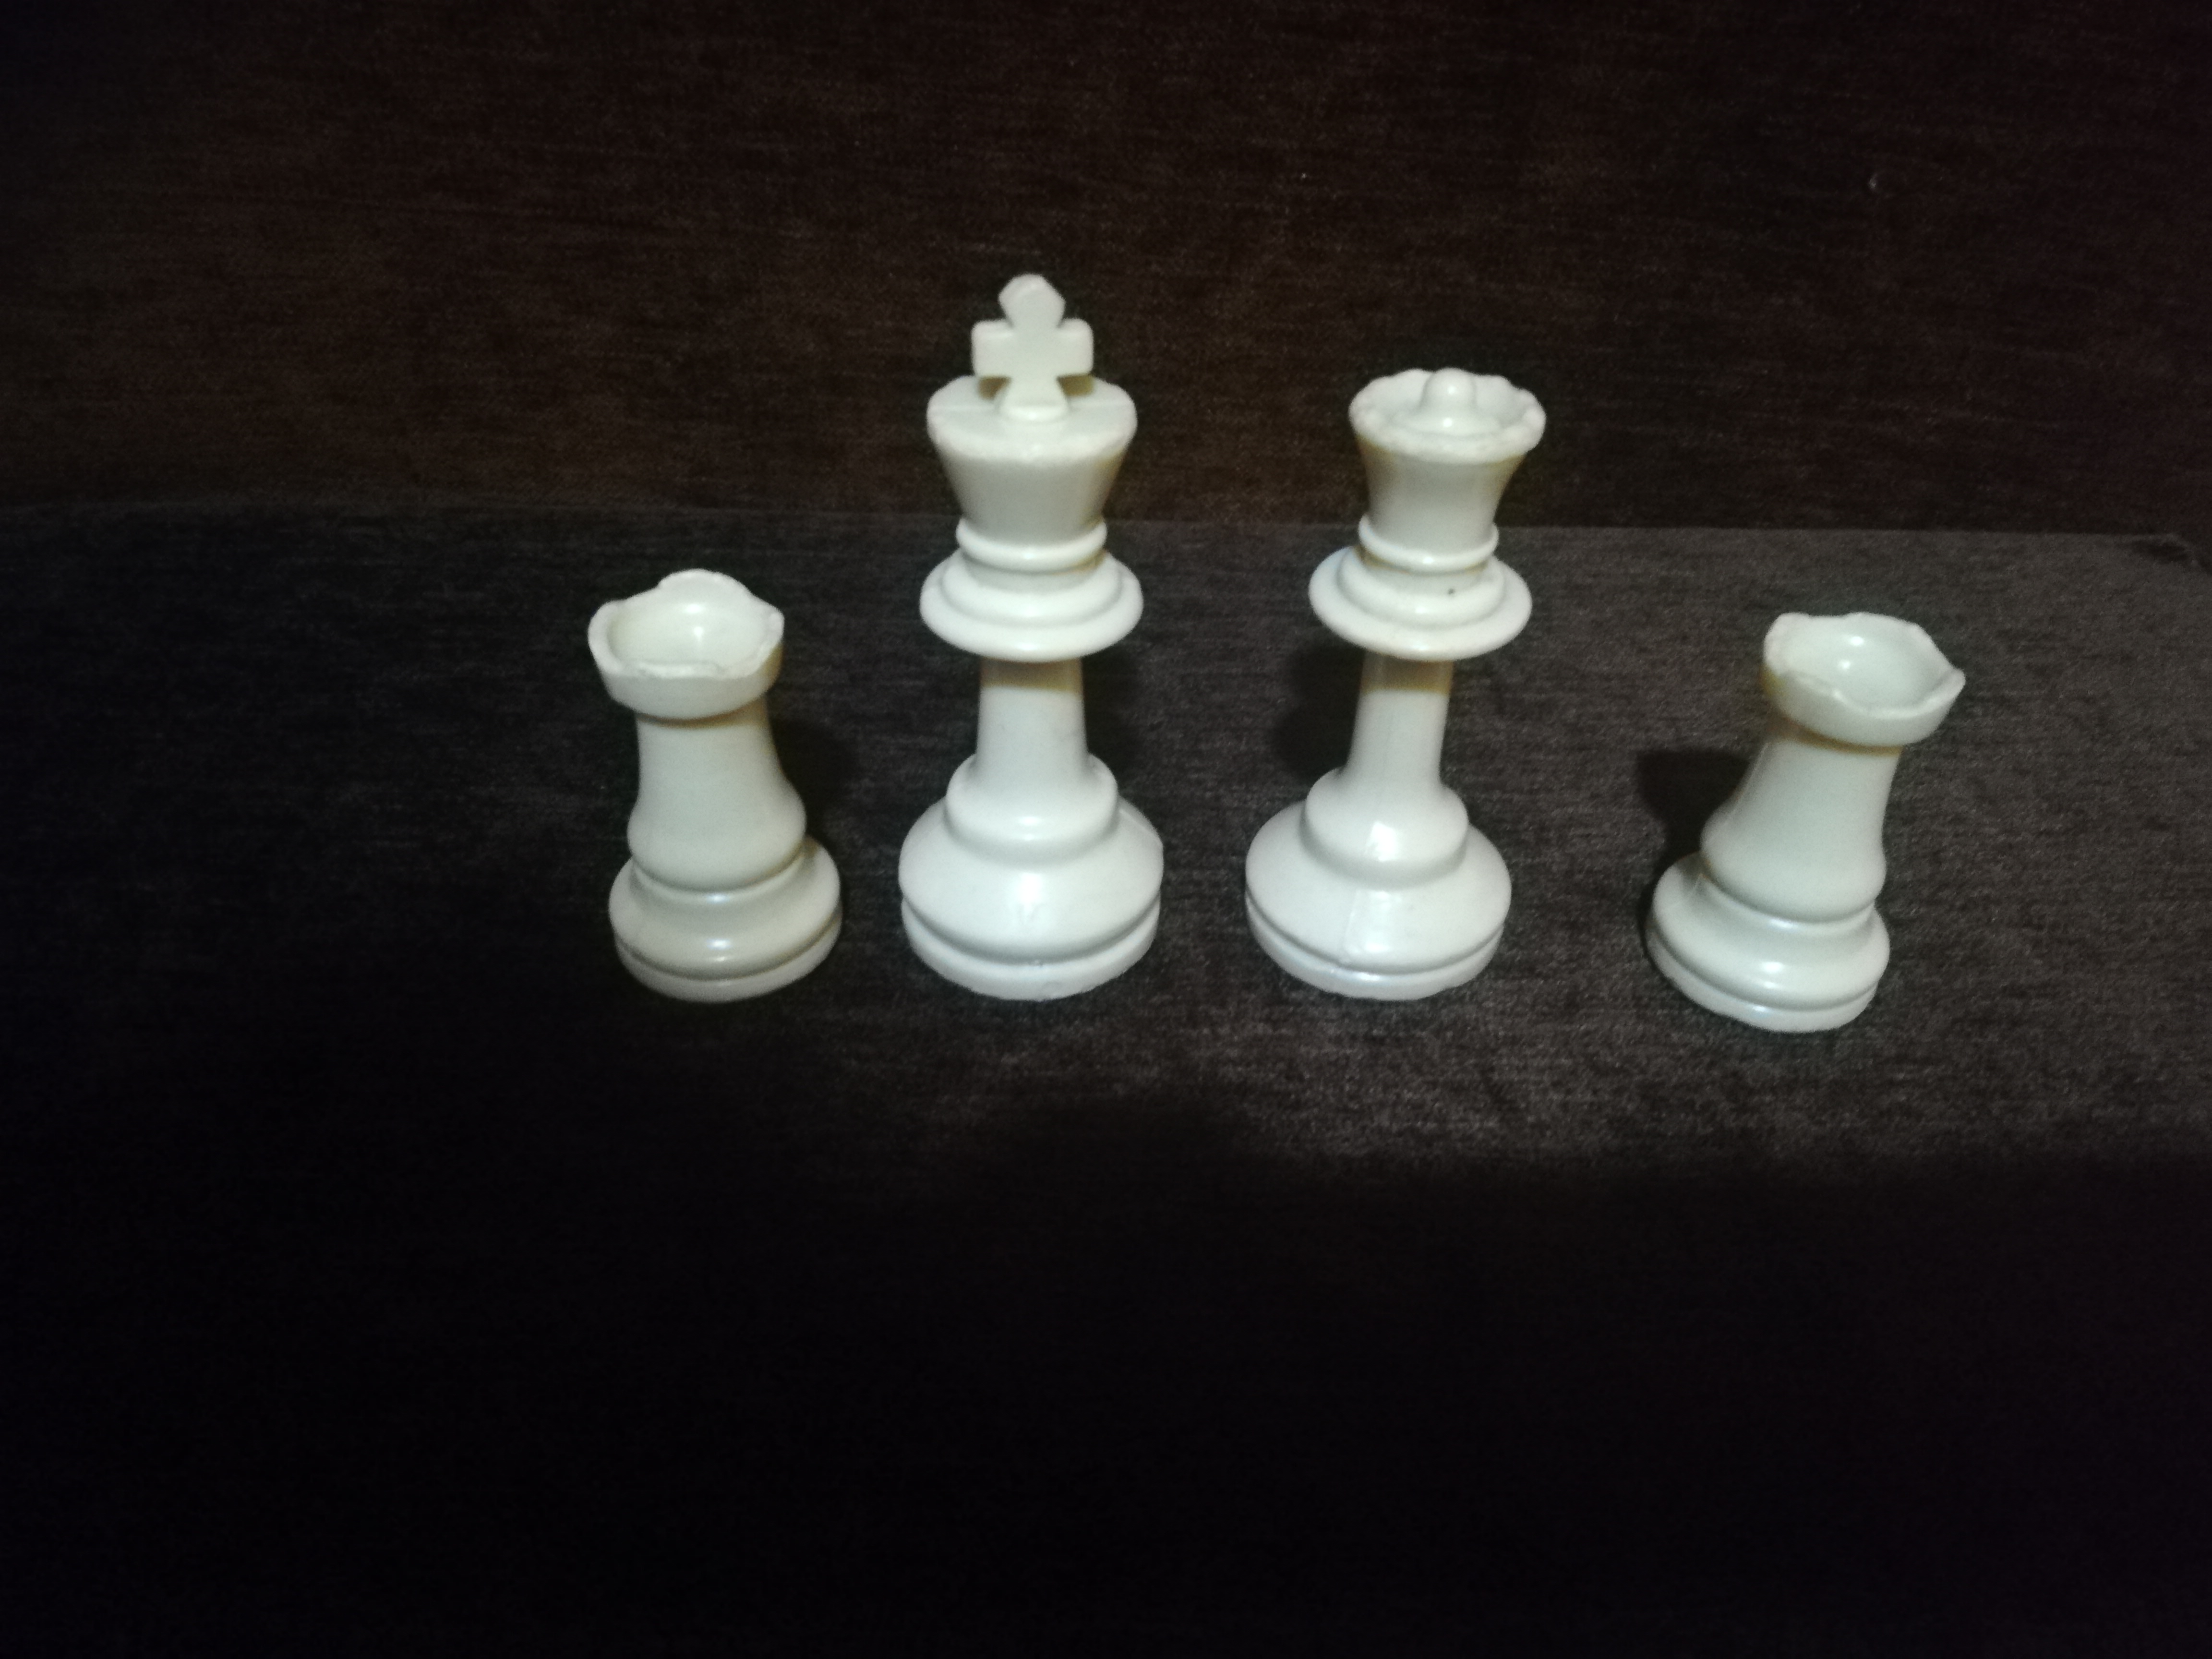King: (883, 271, 1183, 997)
Queen: (1243, 333, 1533, 1010)
Rook: (1649, 584, 1971, 1046), (548, 563, 849, 998)
